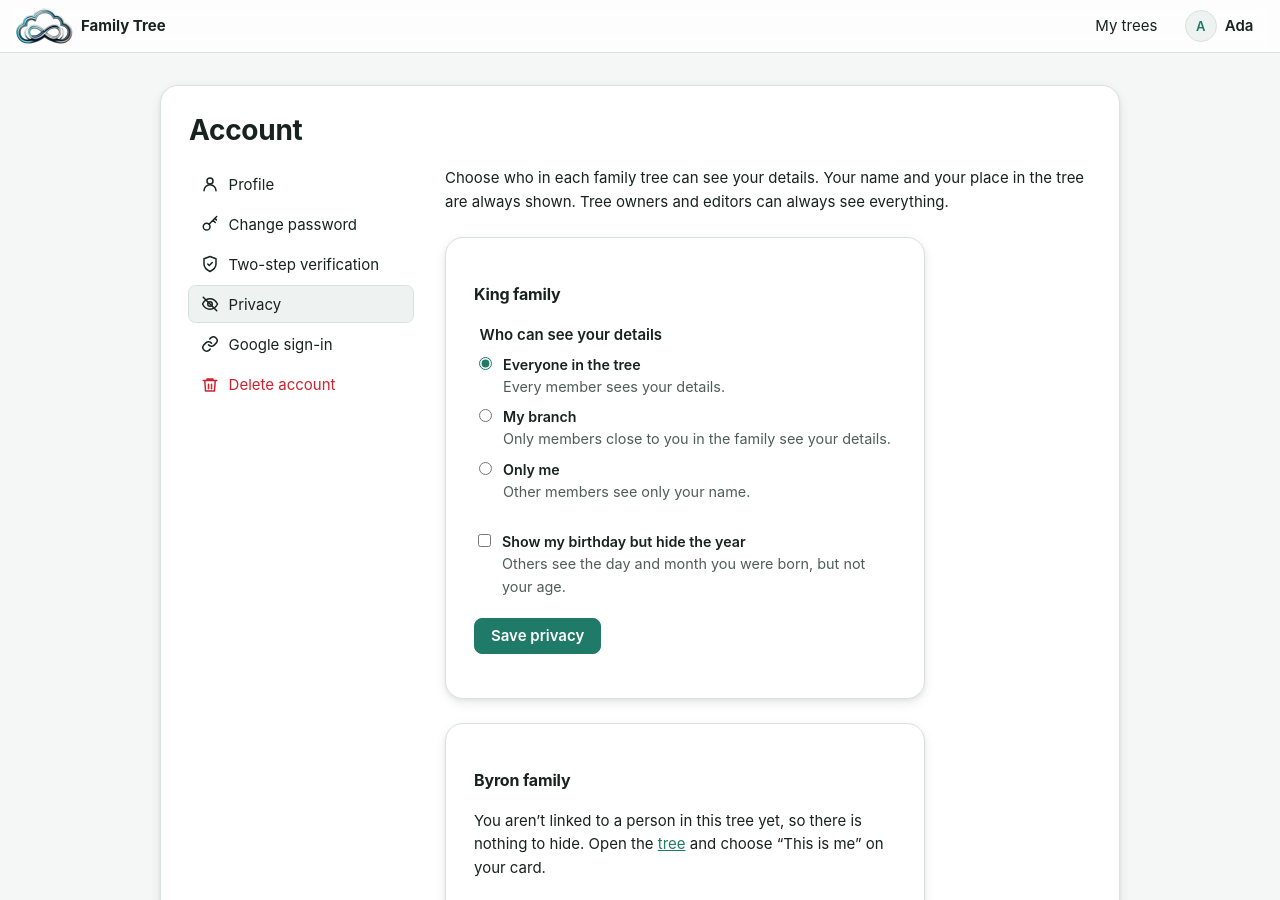
Account > Privacy › saves who can see my details, per tree
Expected: the radio button labelled "Everyone in the tree" is checked, 479,357 -> 492,370
Click the radio button labelled "My branch".
click(486, 416)  # box 479,409 -> 492,422
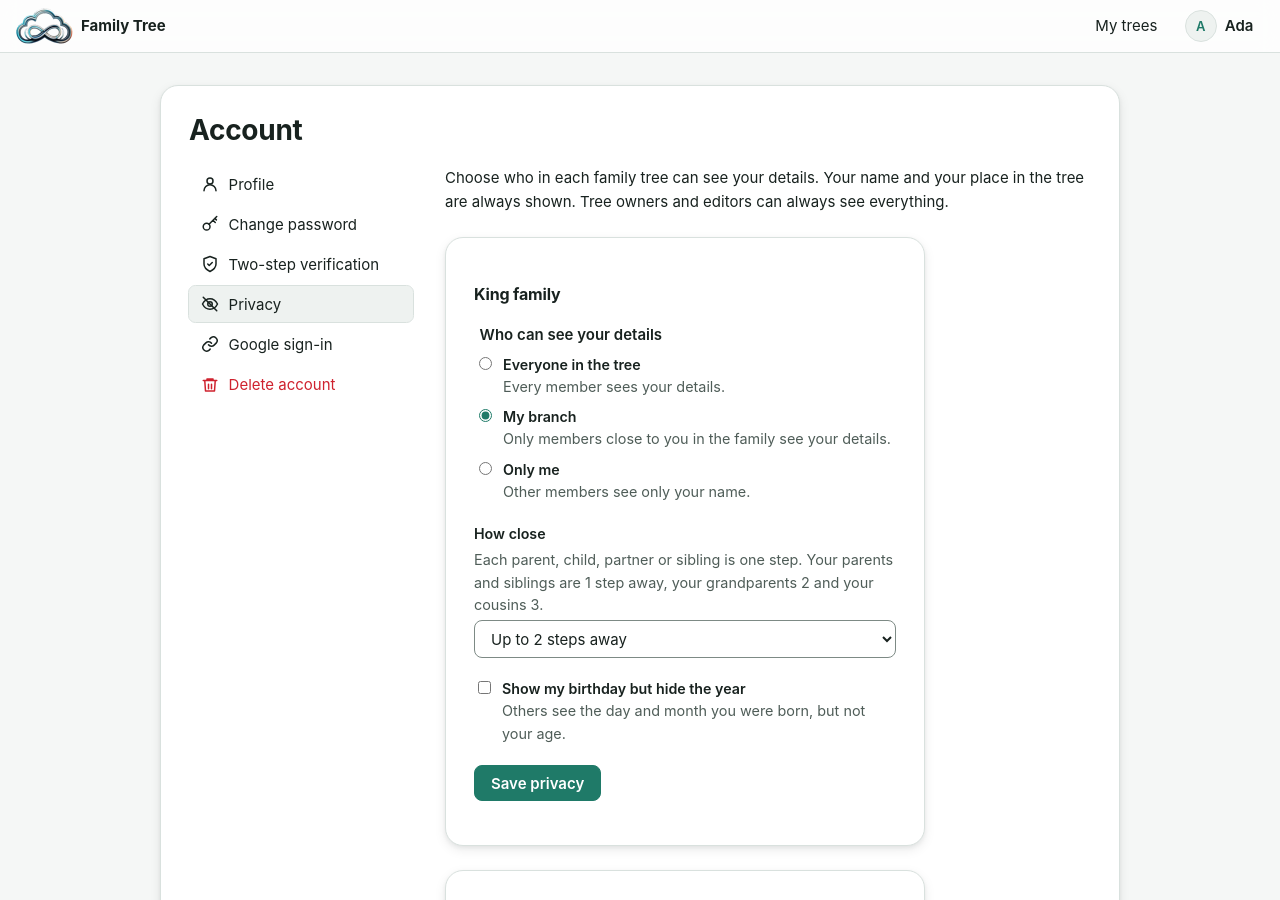
Select "Up to 3 steps away" in the dropdown labelled "How close" at (685, 639), box 474,620 -> 896,658
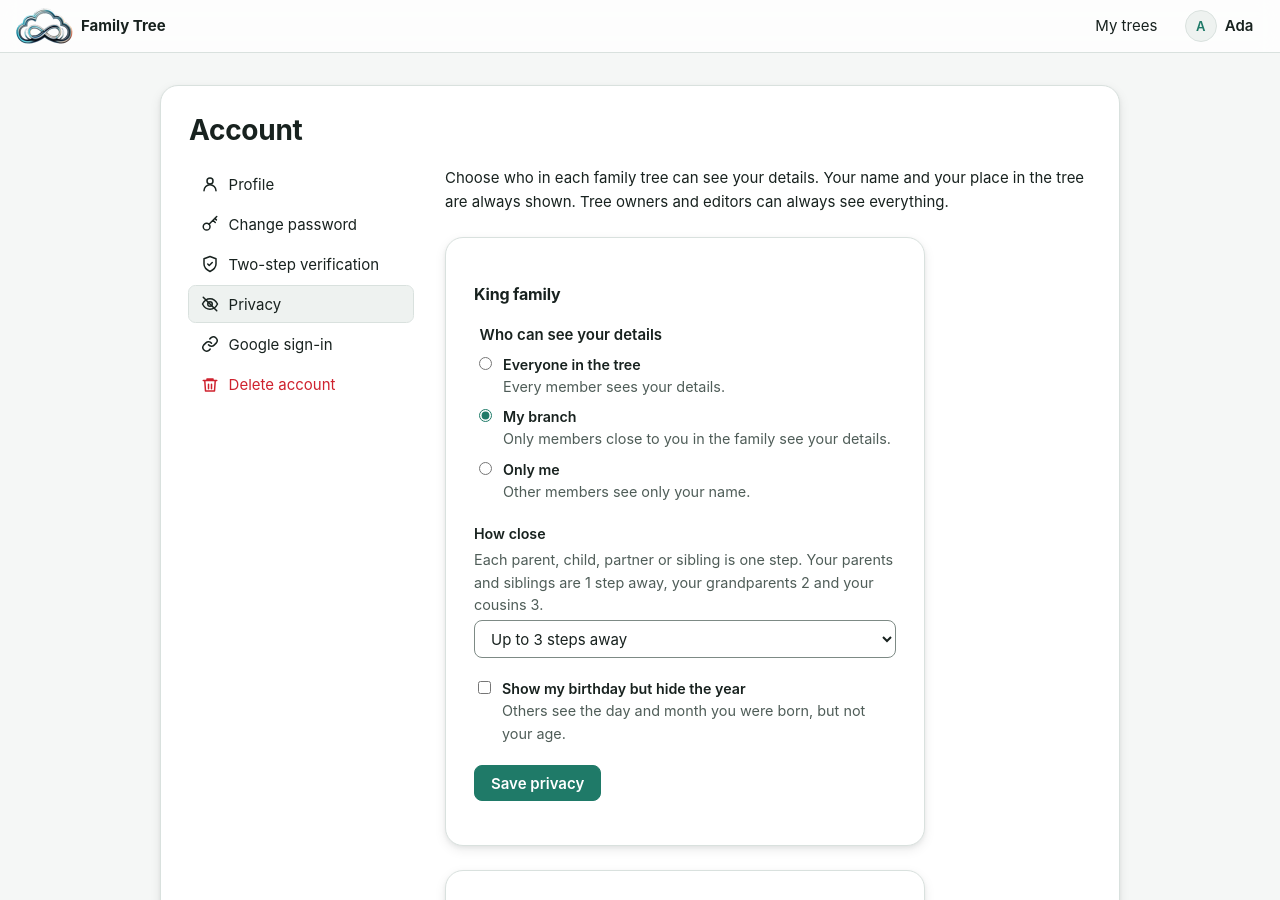
Click the checkbox labelled "Show my birthday but hide the year".
click(484, 688)  # box 478,681 -> 491,694
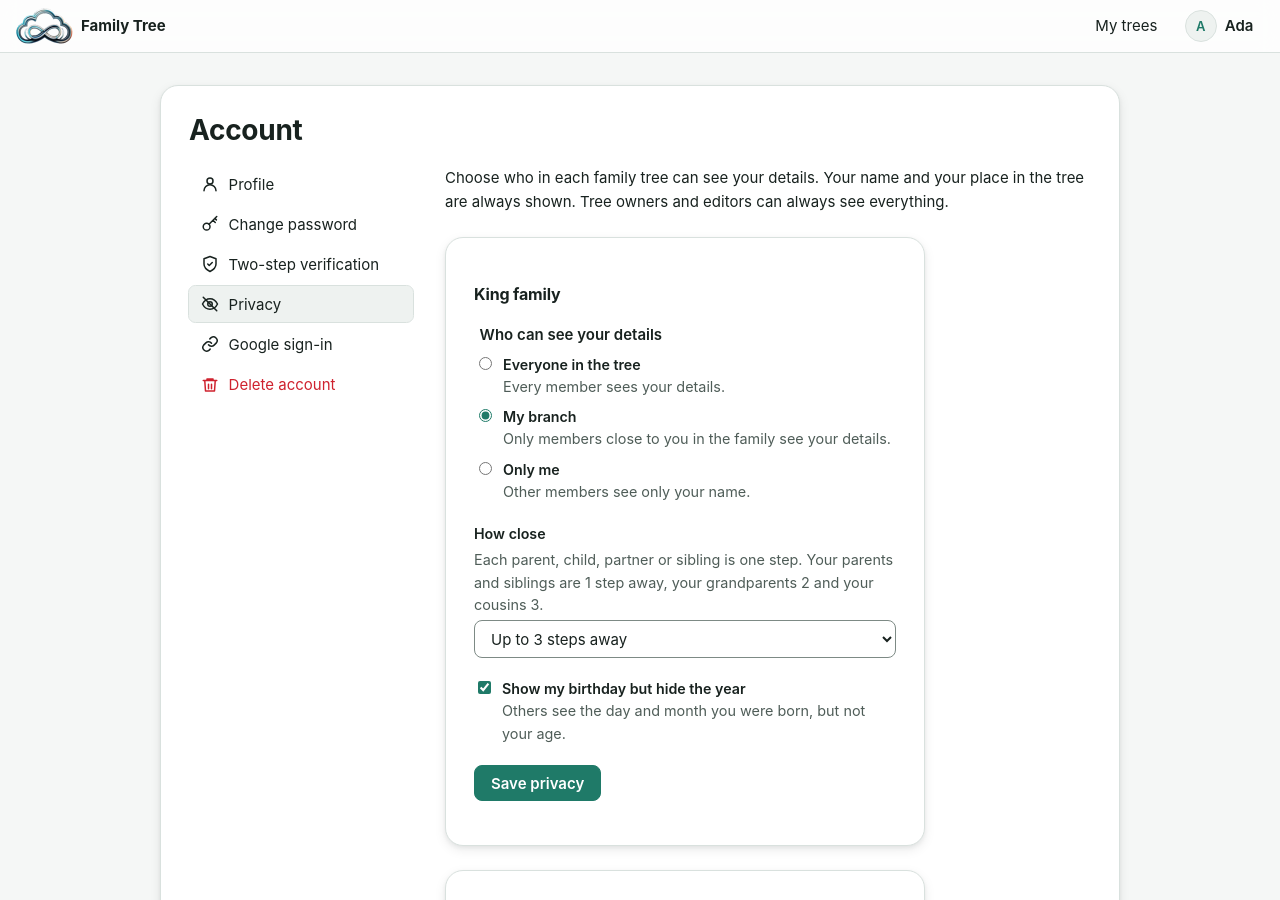
Click the button "Save privacy".
click(538, 783)  # box 474,765 -> 601,801
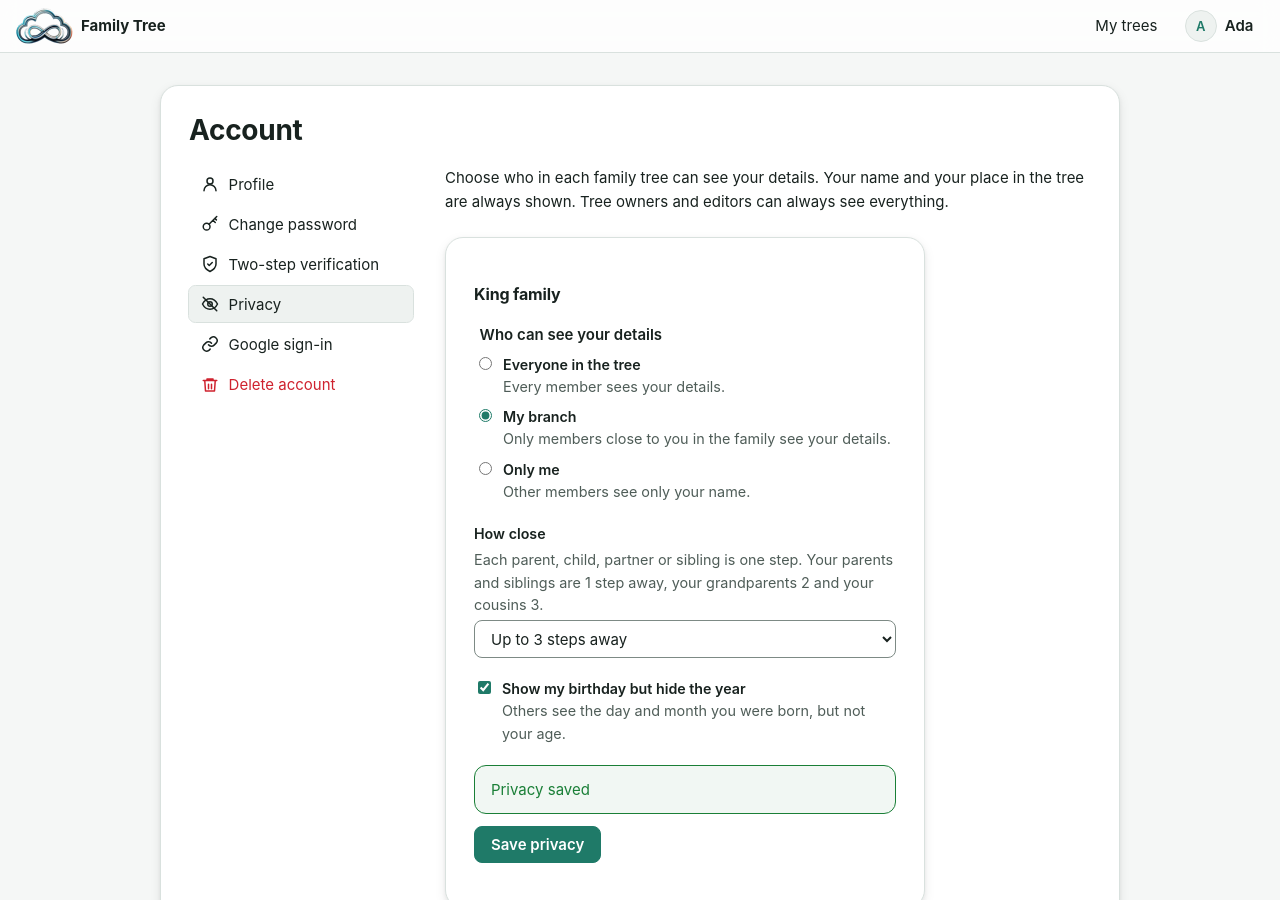
Expected: the text "Privacy saved" is shown, 474,765 -> 896,814
